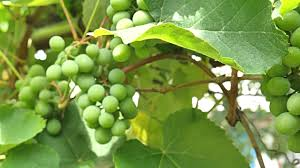grapes: (20, 47, 81, 141), (95, 46, 143, 139)
